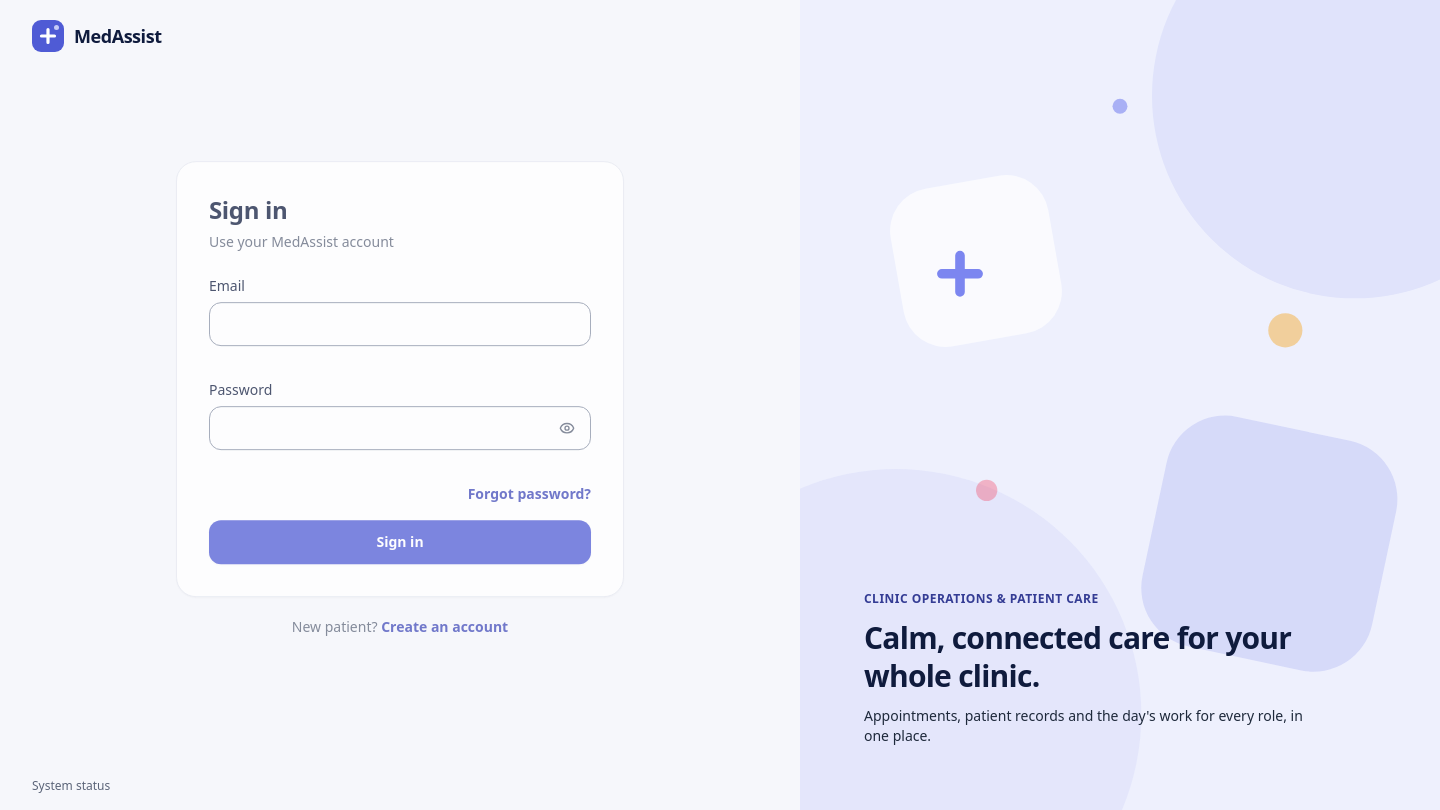
LoginPage › stores the session in memory and lands on the role dashboard
Check: the heading "Sign in" is shown, box [209,192,287,225]
In the field labelled "Email": [400, 323] box [209,301,591,345], type "dr.mehta@medassist.dev"
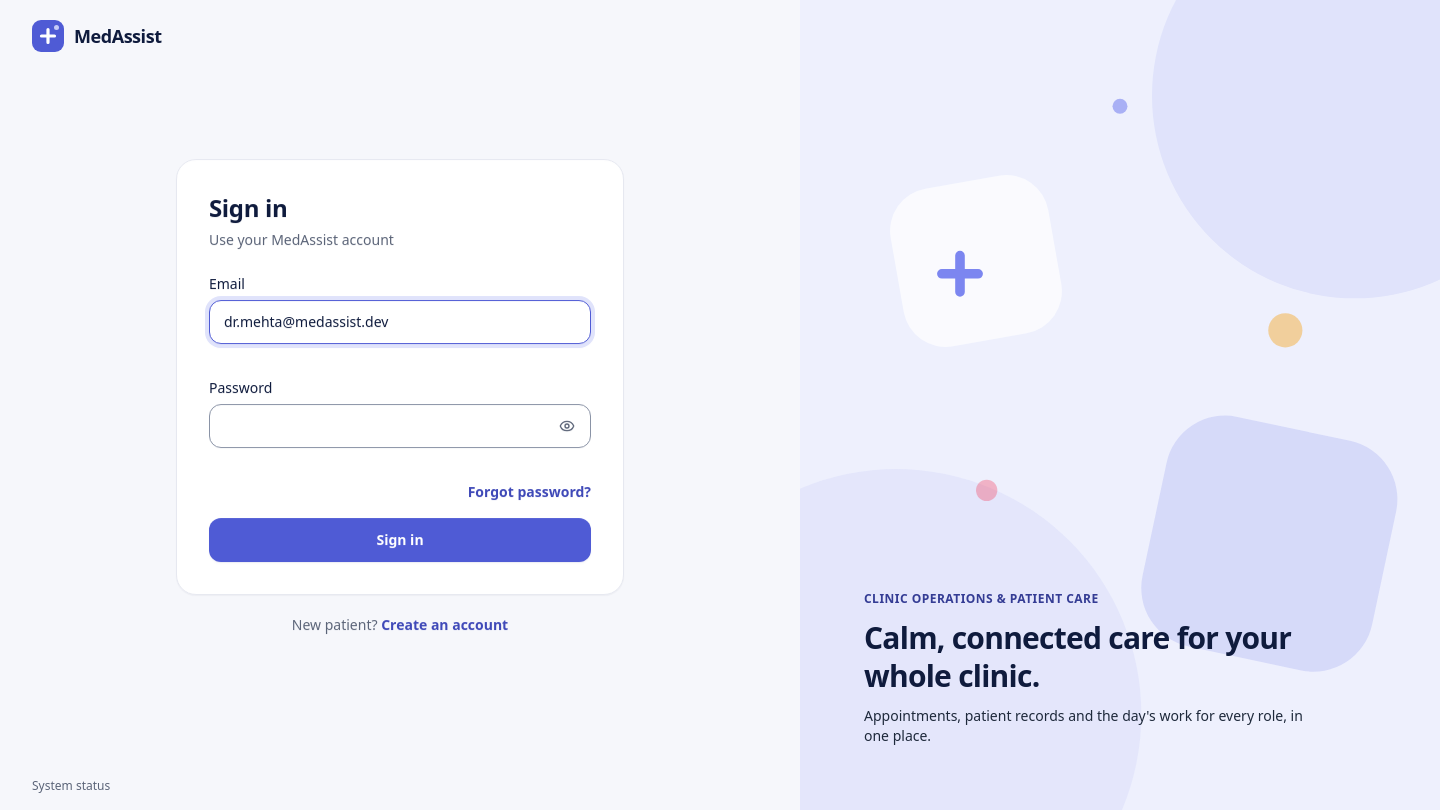
In the password field labelled "Password": [400, 426] box [209,404,591,448], type "Password@123"
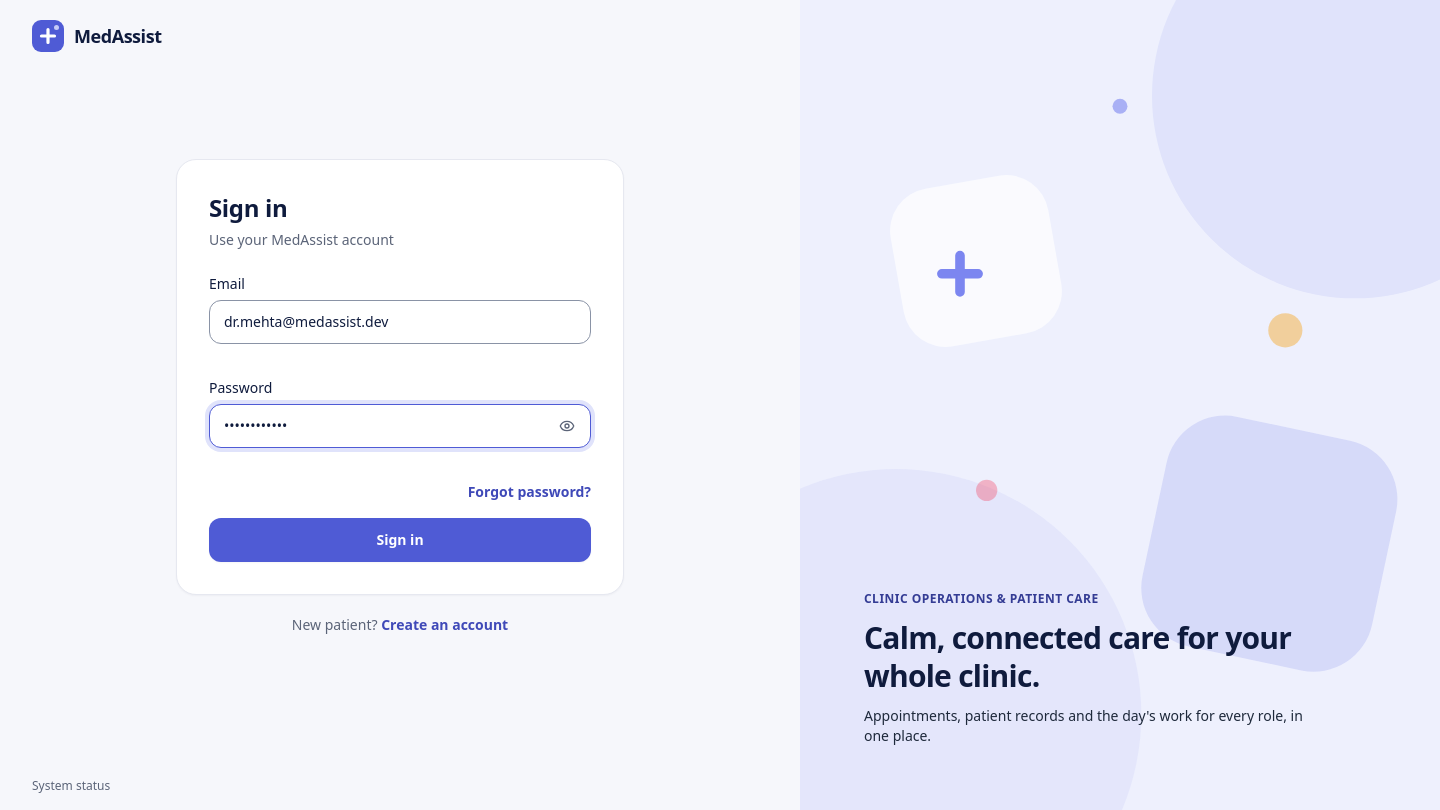
Click the button "Sign in": [400, 540] box [209,518,591,562]
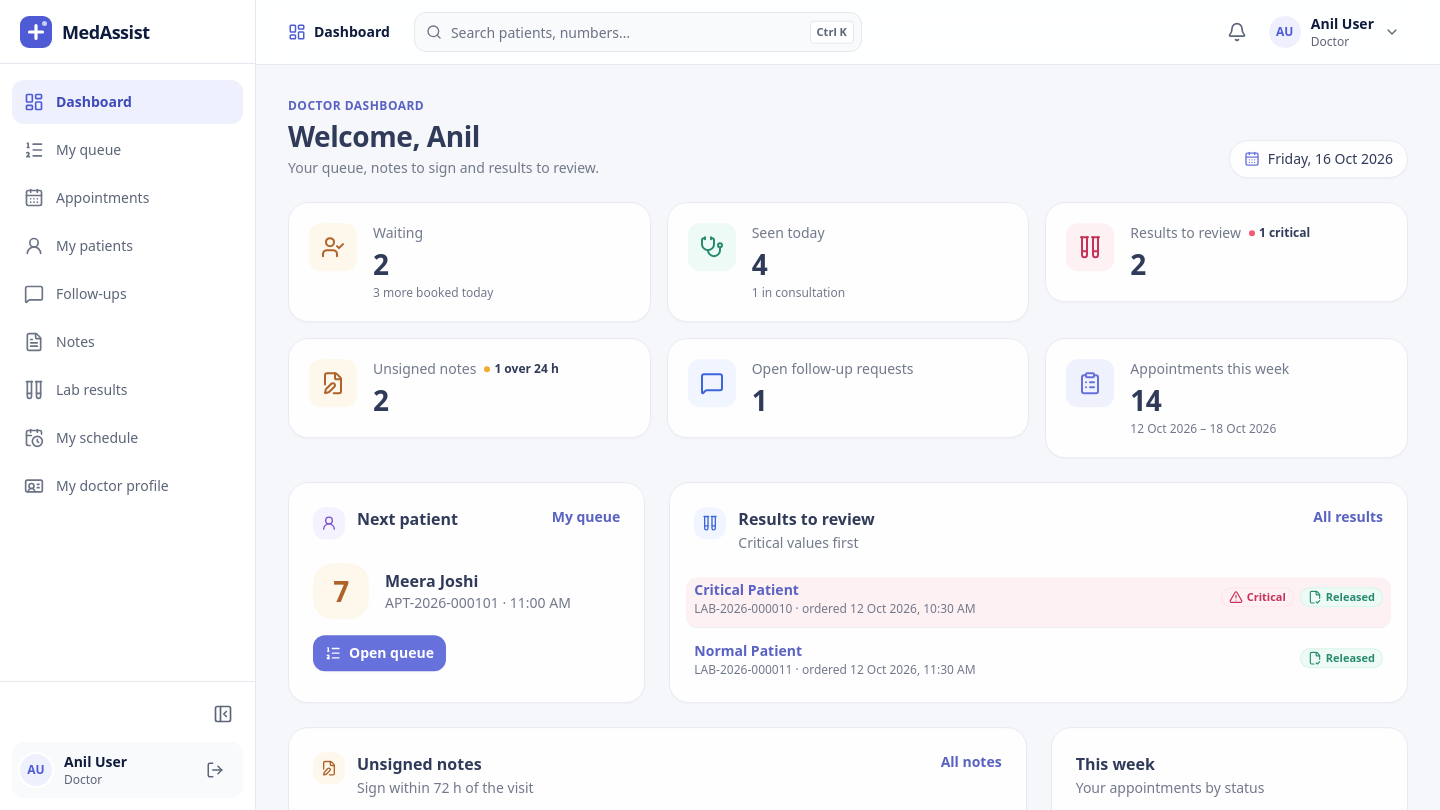
Check: the heading "Welcome, Anil" is shown, box [288,116,480,154]
